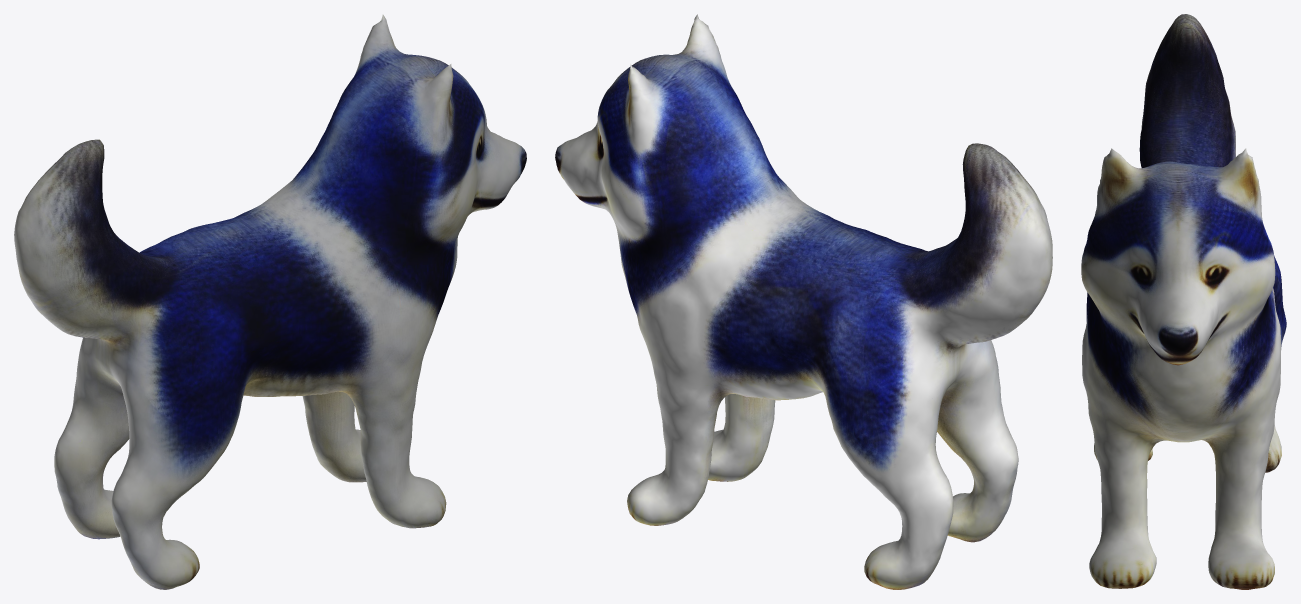
Rendered from husky.glb.
The picture shows the model from 3 angles, left to right: view 1: azimuth 30°, elevation 25°; view 2: azimuth 150°, elevation 25°; view 3: azimuth 270°, elevation 25°; orthographic projection.
Visible parts, largest first — view 1: Mesh1; view 2: Mesh1; view 3: Mesh1.
Boxes of the visible parts, x1,y1,x2,y2 form: Mesh1: [14, 14, 526, 589]; Mesh1: [555, 14, 1052, 589]; Mesh1: [1081, 14, 1286, 589].
Size of the model in its own units: 1.2 by 1.05 by 0.4297.
1 material, 1 textured.
